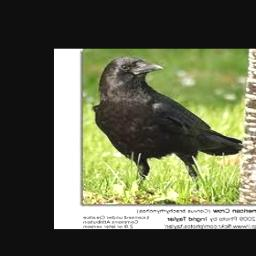Crow: (91, 55, 245, 205)
